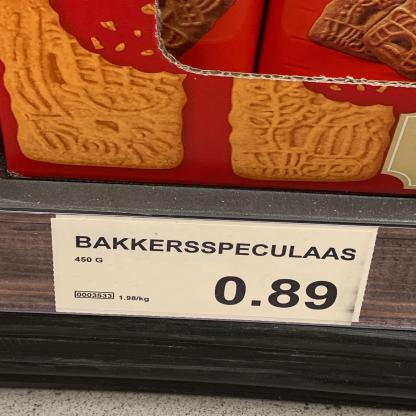prtg: (51, 219, 375, 328)
